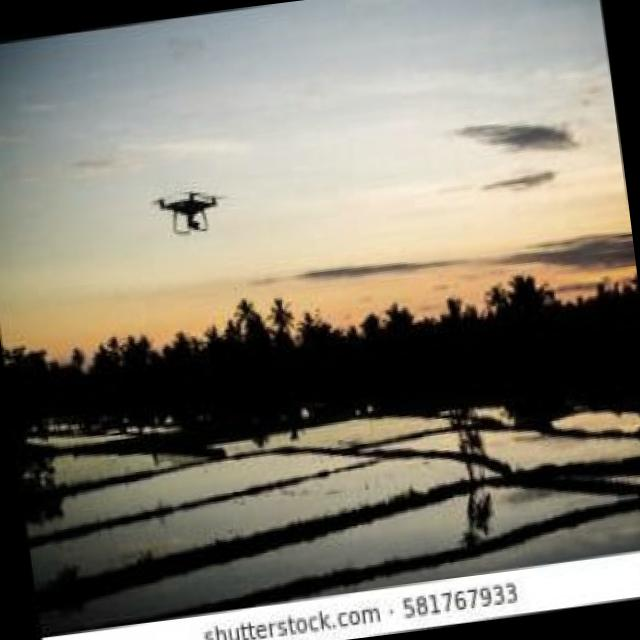drone: (146, 182, 225, 240)
